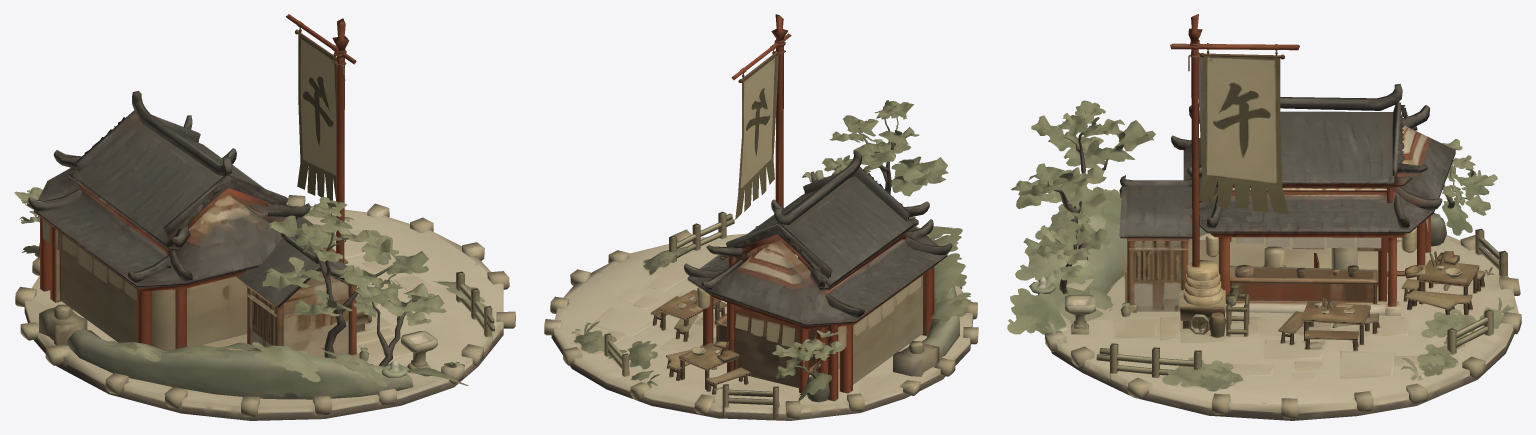
The model's file is noon.glb.
3 renders of one model, left to right at view 1: azimuth 30°, elevation 25°; view 2: azimuth 150°, elevation 25°; view 3: azimuth 270°, elevation 25°, orthographic. The views are drawn at different scales.
Parts seen in each view (by area): view 1: 73abcef0-c131-4a96-9daf-a731984ae803; view 2: 73abcef0-c131-4a96-9daf-a731984ae803; view 3: 73abcef0-c131-4a96-9daf-a731984ae803.
Part boxes in pixels (left/top/right/bottom): 73abcef0-c131-4a96-9daf-a731984ae803: left=14, top=14, right=515, bottom=420; 73abcef0-c131-4a96-9daf-a731984ae803: left=544, top=14, right=978, bottom=420; 73abcef0-c131-4a96-9daf-a731984ae803: left=1007, top=14, right=1521, bottom=420.
Bounding box in the file's own units: 0.9595 × 0.689 × 0.9995.
1 material, 1 textured.
